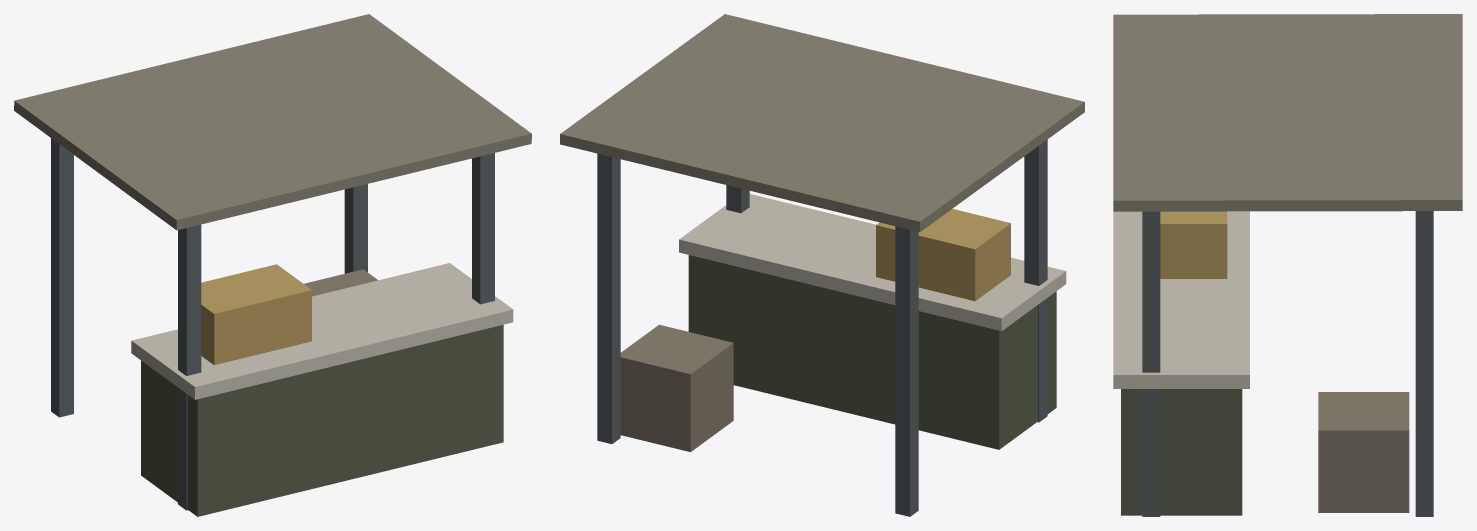
Rendered from market_stall.glb.
3 views of the same model, side by side, from view 1: azimuth 30°, elevation 25°; view 2: azimuth 150°, elevation 25°; view 3: azimuth 270°, elevation 25° (orthographic). The views are drawn at different scales.
Visible parts, largest first — view 1: canvas, counter, counter_top, goods, post2, post0, post1, post3, crate2; view 2: canvas, counter, counter_top, crate2, goods, post3, post2, post0; view 3: canvas, counter_top, counter, crate2, post3, post1, goods.
Part boxes in pixels (x1,y1,x2,y2): canvas: (14, 14, 531, 230); counter: (141, 324, 503, 516); counter_top: (131, 263, 513, 399); goods: (201, 264, 311, 365); post2: (51, 138, 73, 417); post0: (178, 224, 201, 510); post1: (472, 153, 494, 304); post3: (344, 184, 367, 273); crate2: (304, 269, 377, 296); canvas: (560, 14, 1084, 231); counter: (688, 255, 1056, 449); counter_top: (679, 194, 1066, 331); crate2: (620, 324, 733, 451); goods: (876, 209, 1010, 301); post3: (597, 153, 620, 443); post2: (895, 226, 918, 516); post0: (1024, 139, 1047, 422); canvas: (1113, 14, 1462, 211); counter_top: (1113, 211, 1249, 388); counter: (1121, 389, 1242, 515); crate2: (1318, 392, 1409, 512); post3: (1415, 211, 1433, 516); post1: (1142, 211, 1160, 516); goods: (1160, 211, 1227, 278).
Bounding box in the file's own units: 2.9 × 2.39 × 2.3.
